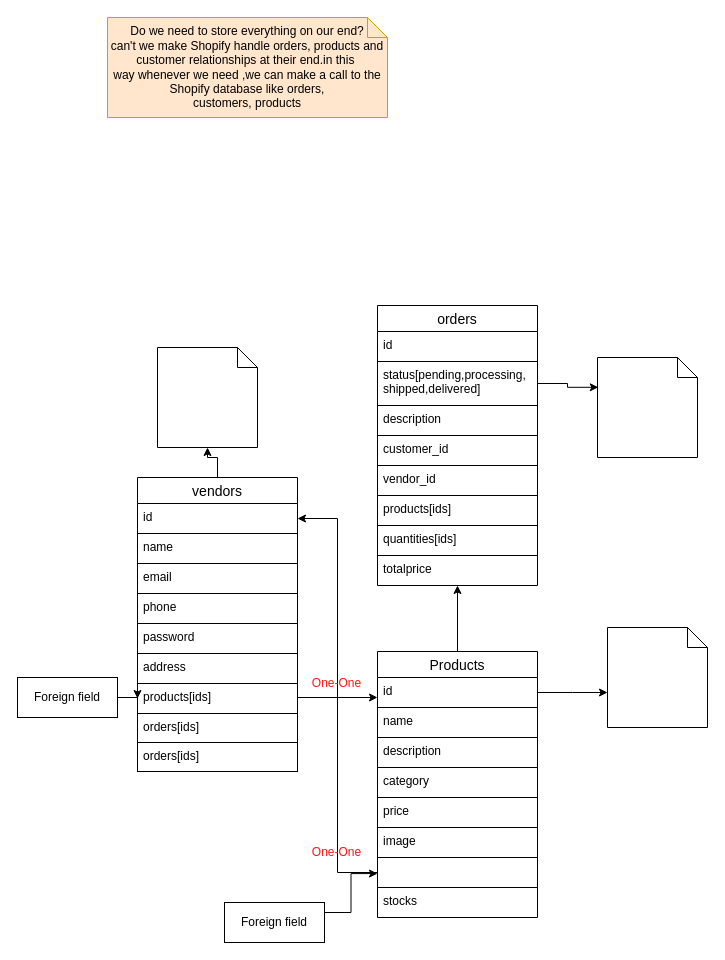
This 725x960 diagram has some shape labels left out. Each missing label, with the centre of its shape:
"Shopifys Orders Json" goes at (647,407).
"Shopifys Products Json" goes at (657,677).
"Top Level Mongodb vendors collection" goes at (207,397).
"vendors[ids]" goes at (457,872).
